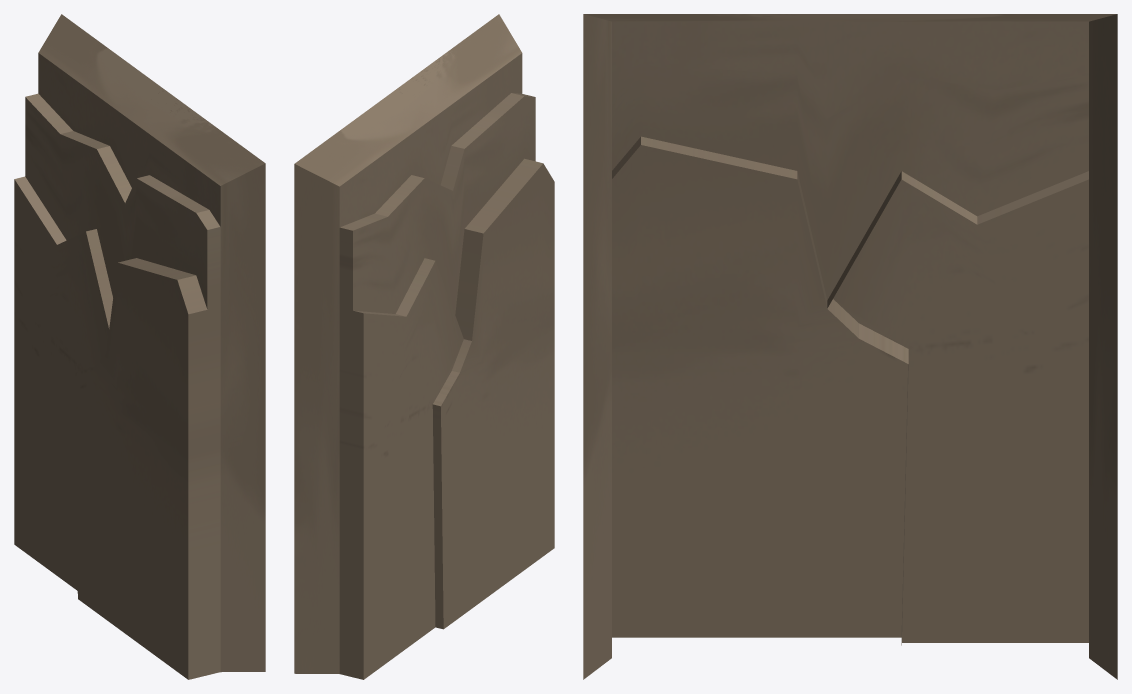
The model's file is tileable_cave_wall.fbx.
3 views of the same model, side by side, from view 1: azimuth 30°, elevation 25°; view 2: azimuth 150°, elevation 25°; view 3: azimuth 270°, elevation 25° (orthographic). The views are drawn at different scales.
Parts seen in each view (by area): view 1: tileable_cave_wall; view 2: tileable_cave_wall; view 3: tileable_cave_wall.
Part boxes in pixels (left/top/right/bottom): tileable_cave_wall: left=14, top=14, right=265, bottom=679; tileable_cave_wall: left=294, top=14, right=554, bottom=679; tileable_cave_wall: left=583, top=14, right=1117, bottom=679.
Bounding box in the file's own units: 1.94 × 14.25 × 10.36.
Materials: 1 (1 with a texture image).
